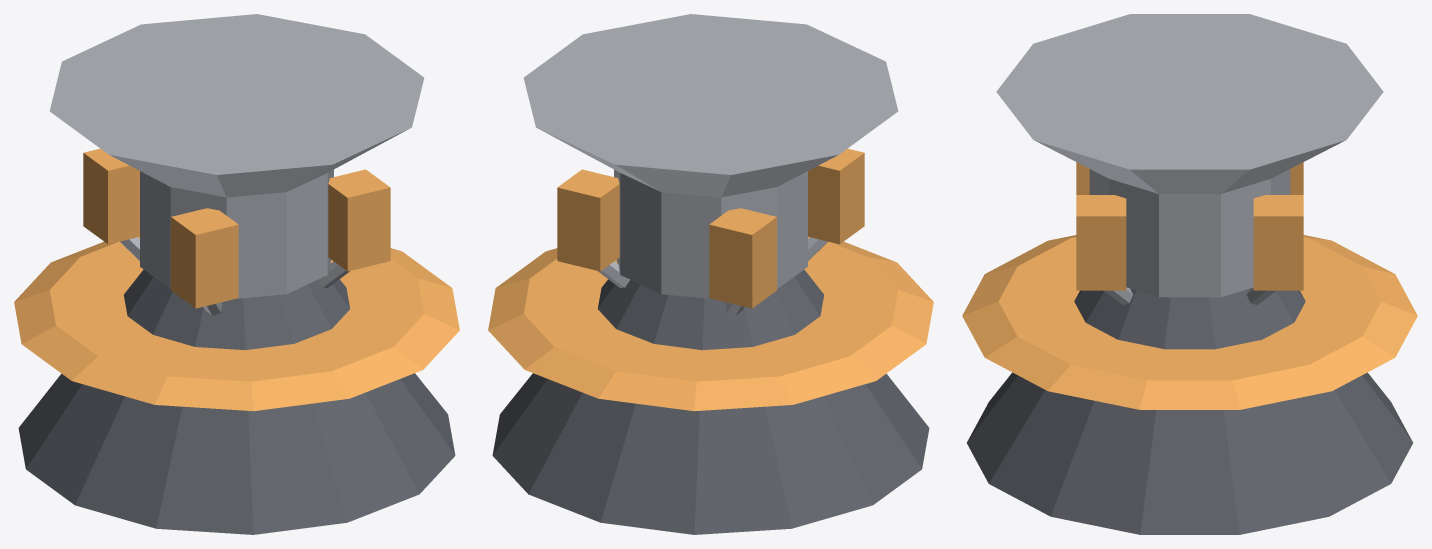
The model's file is engine_strong.glb.
3 renders of one model, left to right at view 1: azimuth 30°, elevation 25°; view 2: azimuth 150°, elevation 25°; view 3: azimuth 270°, elevation 25°, orthographic.
Parts seen in each view (by area): view 1: engine_strong; view 2: engine_strong; view 3: engine_strong.
Part boxes in pixels (x1,y1,x2,y2): engine_strong: (14, 14, 459, 534); engine_strong: (488, 14, 933, 534); engine_strong: (962, 14, 1417, 534).
Size of the model in its own units: 1.95 by 1.7 by 2.
